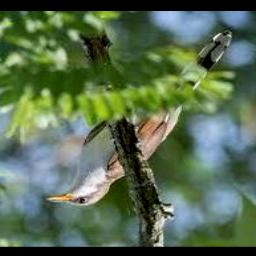Cuckoo: (45, 30, 231, 206)
